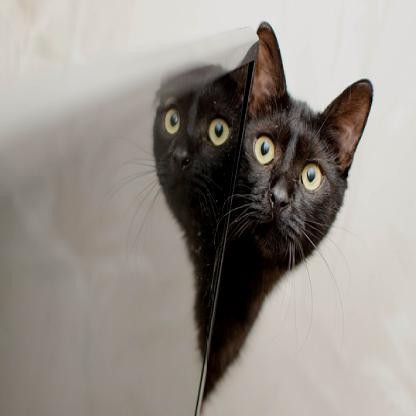cat: (202, 21, 373, 415)
